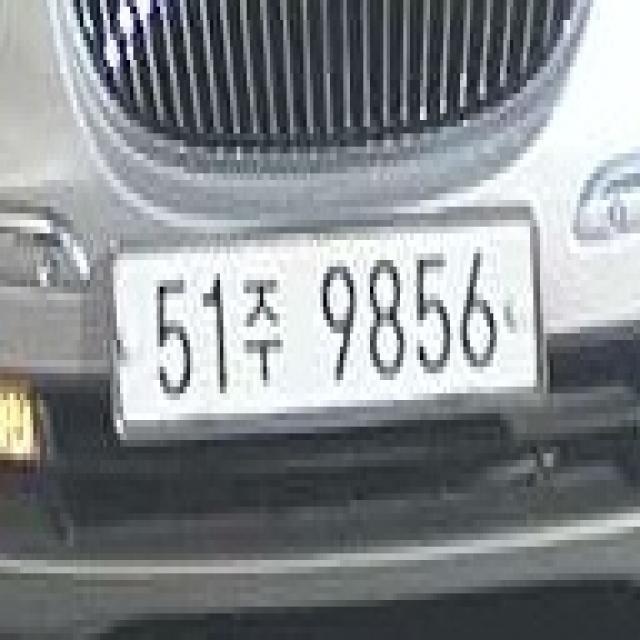1: (198, 266, 235, 394)
5: (152, 268, 196, 406), (411, 246, 452, 383)
6: (456, 242, 499, 382)
8: (364, 246, 407, 386)
9: (316, 252, 359, 394)
ju: (237, 262, 285, 396)
license_plate: (94, 177, 566, 485)
